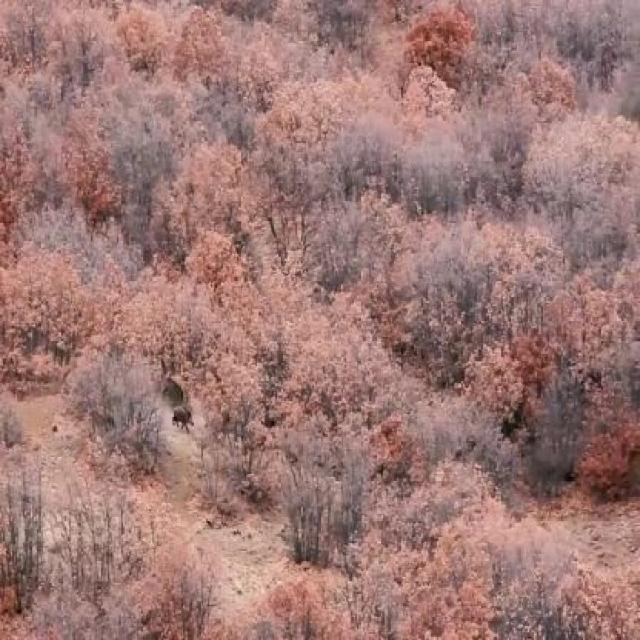pig: (176, 395, 200, 428)
